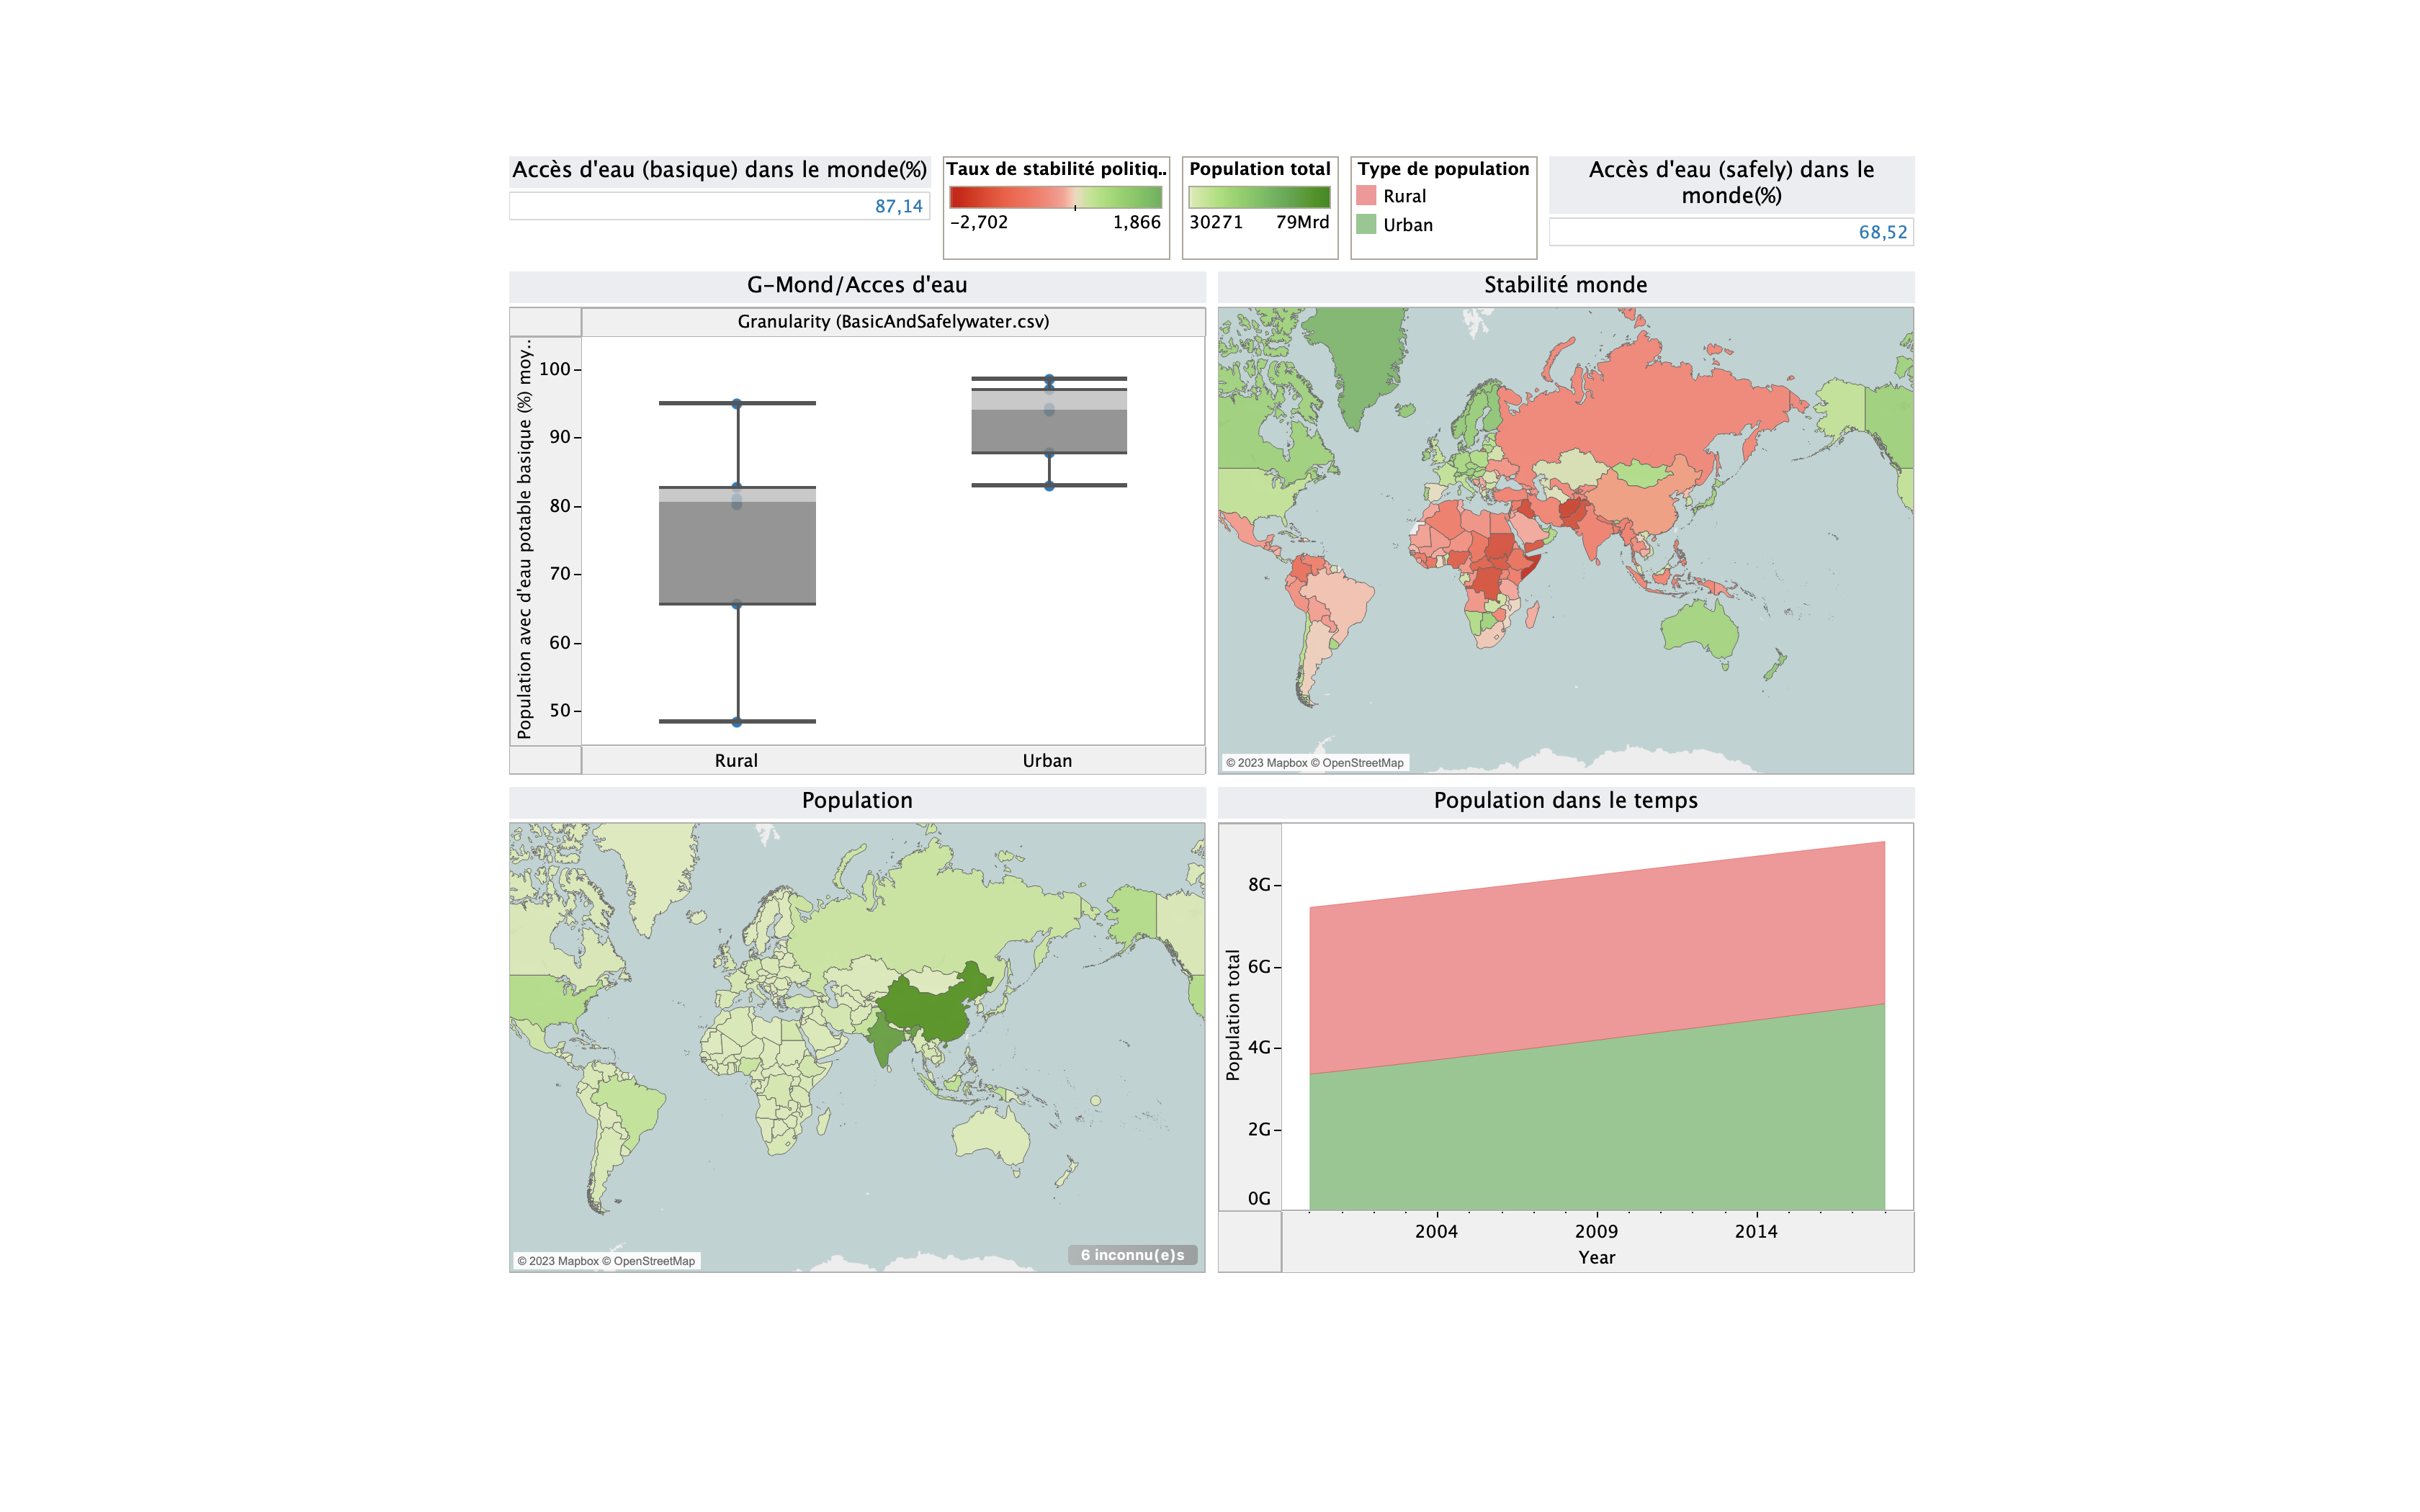

The page's visual inventory and layout, read from the dashboard file:
{"tool":"tableau","page":{"name":"Tableau mundiale ","canvas":[1000,800],"ordinal":1},"visuals":[{"type":"worksheet","title":"Accès d'eau (basique) dans le monde","mark":"Automatic","box":[8,8,300.9,80]},{"type":"legend","title":"B-Mond/Stabilité","param":"[federated.1ywh7er0wg581l1b8lv371uzpvc3].[avg:Political_Stability:qk]","box":[308.9,8,166.1,80]},{"type":"legend","title":"E-Mond/Population et densité","param":"[federated.1ywh7er0wg581l1b8lv371uzpvc3].[sum:Calculation_4250272194548936704:qk","box":[475,8,117,80]},{"type":"legend","title":"A-Mond/Population","param":"[federated.1ywh7er0wg581l1b8lv371uzpvc3].[none:Granularity:nk]","box":[592,8,138,80]},{"type":"worksheet","title":"Accès d'eau (safely) dans le monde (2)","mark":"Automatic","box":[730,8,262,80]},{"type":"worksheet","title":"G-Mond/Acces d'eau","mark":"Circle","rows":["Population using at least basic drinking-water services (%)"],"cols":["Granularity (BasicAndSafelywater.csv)"],"box":[8,88,492,358]},{"type":"worksheet","title":"B-Mond/Stabilité","mark":"Automatic","box":[500,88,492,358]},{"type":"worksheet","title":"E-Mond/Population et densité","mark":"Automatic","box":[8,446,492,346]},{"type":"worksheet","title":"A-Mond/Population","mark":"Area","rows":["Calculation_4250272194548936704"],"cols":["Year"],"box":[500,446,492,346]}]}

Visuals, with their boxes on the page's 1000x800 design canvas (x1, y1, x2, y2). These are canvas units, not pixel positions in the 2420x1512 screenshot, which may show the page scaled, cropped or inside an application window:
"Accès d'eau (basique) dans le monde" worksheet: {"left": 8, "top": 8, "right": 309, "bottom": 88}
"B-Mond/Stabilité" legend: {"left": 309, "top": 8, "right": 475, "bottom": 88}
"E-Mond/Population et densité" legend: {"left": 475, "top": 8, "right": 592, "bottom": 88}
"A-Mond/Population" legend: {"left": 592, "top": 8, "right": 730, "bottom": 88}
"Accès d'eau (safely) dans le monde (2)" worksheet: {"left": 730, "top": 8, "right": 992, "bottom": 88}
"G-Mond/Acces d'eau" worksheet (Circle marks): {"left": 8, "top": 88, "right": 500, "bottom": 446}
"B-Mond/Stabilité" worksheet: {"left": 500, "top": 88, "right": 992, "bottom": 446}
"E-Mond/Population et densité" worksheet: {"left": 8, "top": 446, "right": 500, "bottom": 792}
"A-Mond/Population" worksheet (Area marks): {"left": 500, "top": 446, "right": 992, "bottom": 792}
